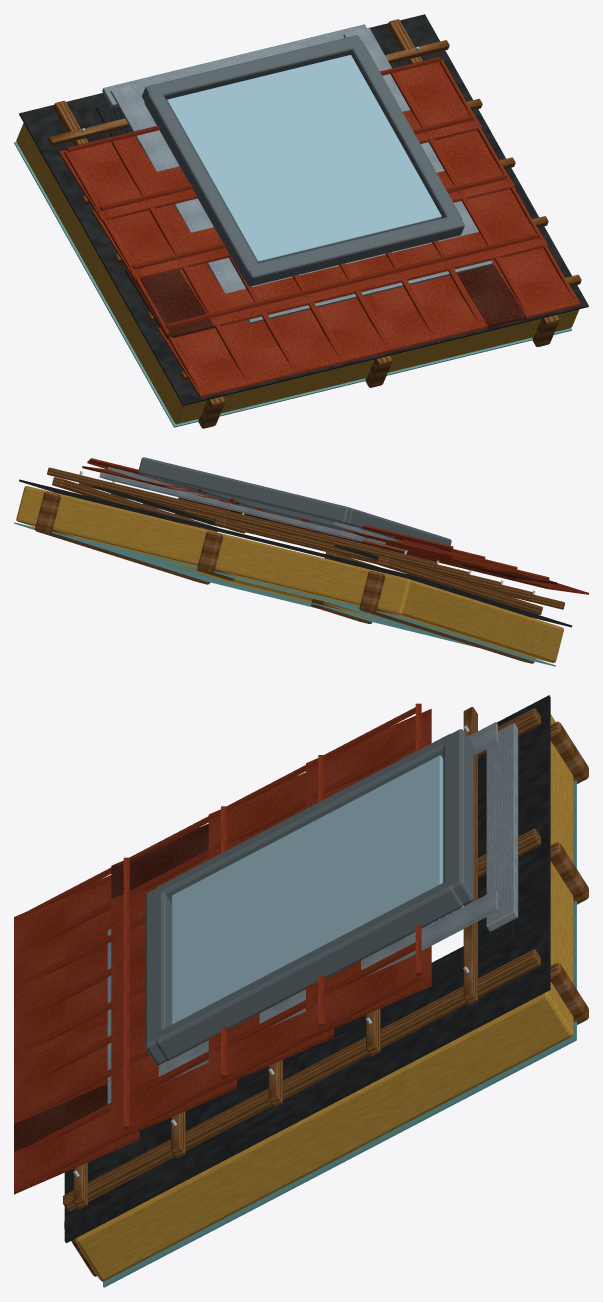
File: modell.glb
3 views of the same model, one above another, from view 1: azimuth 30°, elevation 25°; view 2: azimuth 150°, elevation 25°; view 3: azimuth 270°, elevation 25° (orthographic). The views are drawn at different scales.
Parts seen in each view (by area): view 1: s09-deckziegel_deckung, s09-fenster_, s09-rahmen_, s09-zusatzebene_zusatzebene, s09-daemmung_daemmung, s09-anschluss_deckung, s09-deckziegel_deckung.001, s09-lattung_lattung, s09-zusatzebene_zusatzebene.001, s09-luftdichtheit_luftdichtheit, s09-sparren_tragwerk; view 2: s09-daemmung_daemmung, s09-lattung_lattung, s09-rahmen_, s09-deckziegel_deckung, s09-sparren_tragwerk, s09-luftdichtheit_luftdichtheit, s09-zusatzebene_zusatzebene, s09-zusatzebene_zusatzebene.001, s09-anschluss_deckung, s09-zusatzebene_zusatzebene.002, s09-deckziegel_deckung.001; view 3: s09-deckziegel_deckung, s09-fenster_, s09-daemmung_daemmung, s09-zusatzebene_zusatzebene, s09-rahmen_, s09-lattung_lattung, s09-zusatzebene_zusatzebene.001, s09-anschluss_deckung, s09-deckziegel_deckung.001, s09-luftdichtheit_luftdichtheit, s09-sparren_tragwerk, s09-zusatzebene_zusatzebene.002.
Part boxes in pixels (x1=…): s09-deckziegel_deckung: x1=59, y1=57, x2=580, y2=397; s09-fenster_: x1=166, y1=55, x2=441, y2=263; s09-rahmen_: x1=142, y1=35, x2=464, y2=286; s09-zusatzebene_zusatzebene: x1=19, y1=14, x2=588, y2=405; s09-daemmung_daemmung: x1=16, y1=123, x2=579, y2=424; s09-anschluss_deckung: x1=110, y1=27, x2=492, y2=323; s09-deckziegel_deckung.001: x1=125, y1=260, x2=526, y2=339; s09-lattung_lattung: x1=48, y1=19, x2=581, y2=380; s09-zusatzebene_zusatzebene.001: x1=102, y1=24, x2=366, y2=107; s09-luftdichtheit_luftdichtheit: x1=14, y1=141, x2=571, y2=427; s09-sparren_tragwerk: x1=198, y1=315, x2=559, y2=428; s09-daemmung_daemmung: x1=16, y1=486, x2=563, y2=662; s09-lattung_lattung: x1=47, y1=467, x2=564, y2=614; s09-rahmen_: x1=138, y1=457, x2=451, y2=545; s09-deckziegel_deckung: x1=82, y1=458, x2=588, y2=594; s09-sparren_tragwerk: x1=35, y1=491, x2=534, y2=663; s09-luftdichtheit_luftdichtheit: x1=14, y1=522, x2=555, y2=666; s09-zusatzebene_zusatzebene: x1=19, y1=479, x2=571, y2=627; s09-zusatzebene_zusatzebene.001: x1=99, y1=472, x2=363, y2=541; s09-anschluss_deckung: x1=108, y1=467, x2=408, y2=551; s09-zusatzebene_zusatzebene.002: x1=93, y1=486, x2=378, y2=559; s09-deckziegel_deckung.001: x1=231, y1=510, x2=556, y2=584; s09-deckziegel_deckung: x1=14, y1=703, x2=431, y2=1194; s09-fenster_: x1=171, y1=755, x2=443, y2=1024; s09-daemmung_daemmung: x1=75, y1=714, x2=573, y2=1281; s09-zusatzebene_zusatzebene: x1=64, y1=695, x2=550, y2=1243; s09-rahmen_: x1=145, y1=729, x2=473, y2=1065; s09-lattung_lattung: x1=63, y1=707, x2=540, y2=1211; s09-zusatzebene_zusatzebene.001: x1=486, y1=723, x2=518, y2=931; s09-anschluss_deckung: x1=107, y1=722, x2=497, y2=1103; s09-deckziegel_deckung.001: x1=14, y1=823, x2=208, y2=1151; s09-luftdichtheit_luftdichtheit: x1=103, y1=780, x2=576, y2=1287; s09-sparren_tragwerk: x1=64, y1=721, x2=588, y2=1276; s09-zusatzebene_zusatzebene.002: x1=154, y1=755, x2=514, y2=1130.
Bounding box in the file's own units: 2.09 × 1.16 × 1.74.
Materials: 10 (6 with a texture image).
